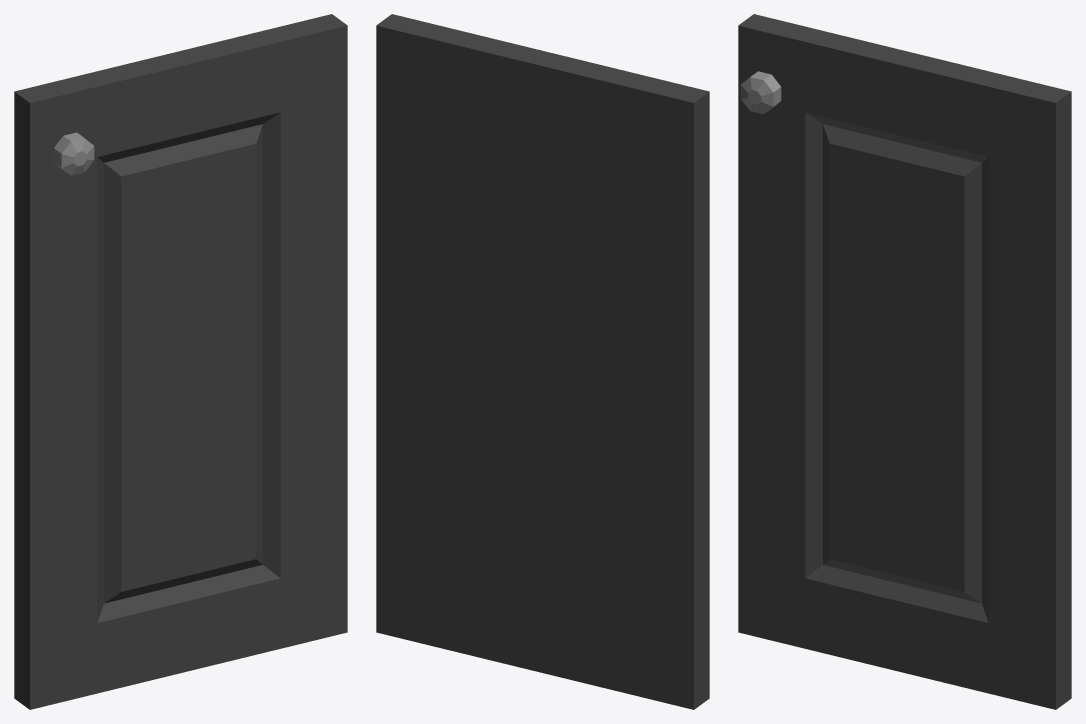
Rendered from Door3_C3_09.fbx.
The picture shows the model from 3 angles, left to right: view 1: azimuth 30°, elevation 25°; view 2: azimuth 150°, elevation 25°; view 3: azimuth 330°, elevation 25°; orthographic projection.
Parts seen in each view (by area): view 1: Door3_C3_09; view 2: Door3_C3_09; view 3: Door3_C3_09.
Boxes of the visible parts, <box> form: Door3_C3_09: <box>14,14,347,709</box>; Door3_C3_09: <box>376,14,709,709</box>; Door3_C3_09: <box>738,14,1071,709</box>.
Size of the model in its own units: 29 by 52.92 by 5.19.
